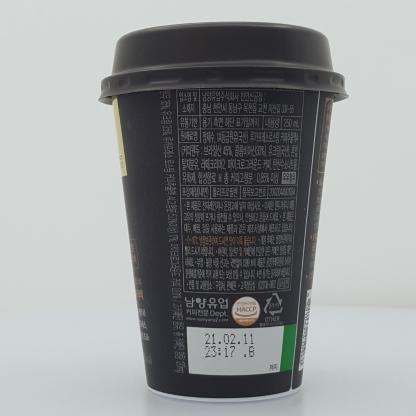-------------: (98, 20, 350, 402)
